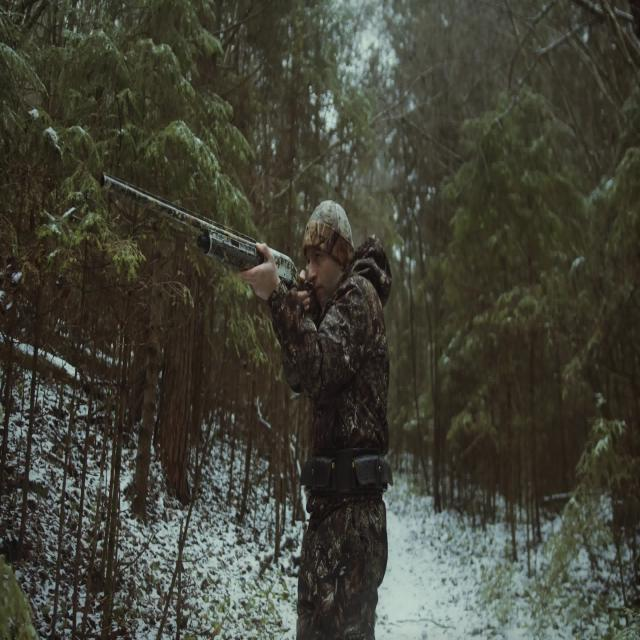Rifle: (103, 172, 292, 278)
